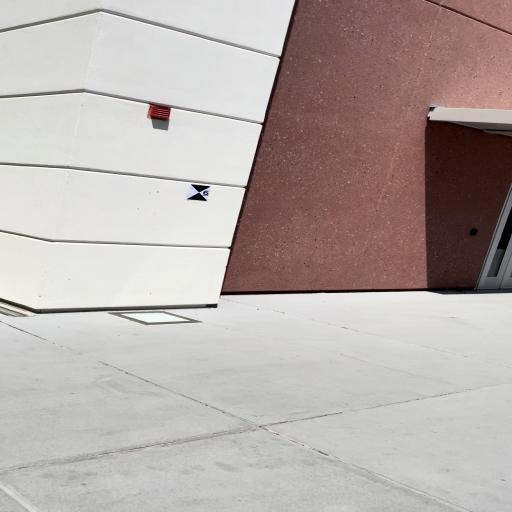target6: (184, 184, 211, 202)
